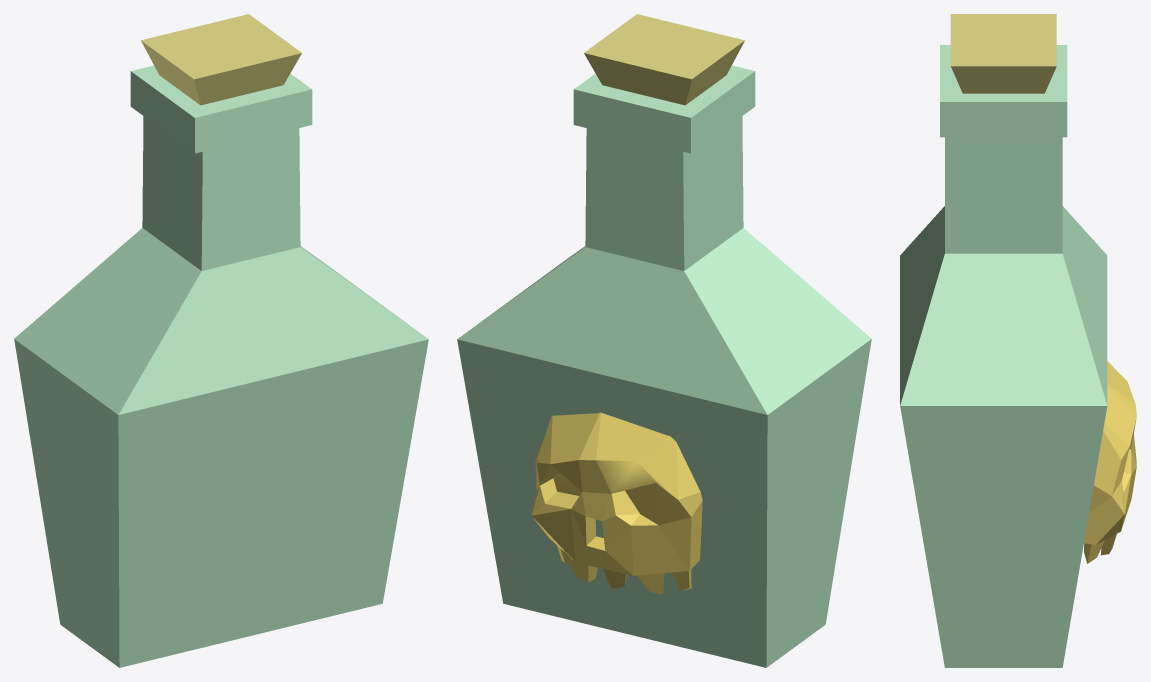
Rendered from Bottle_2.fbx.
The picture shows the model from 3 angles, left to right: view 1: azimuth 30°, elevation 25°; view 2: azimuth 150°, elevation 25°; view 3: azimuth 270°, elevation 25°; orthographic projection.
Parts seen in each view (by area): view 1: Bottle_2; view 2: Bottle_2; view 3: Bottle_2.
Boxes of the visible parts, bbox=[...] form: Bottle_2: bbox=[14, 14, 428, 667]; Bottle_2: bbox=[457, 14, 871, 667]; Bottle_2: bbox=[900, 14, 1136, 667].
Bounding box in the file's own units: 18.03 × 31.5 × 11.98.
1 material, 1 textured.
